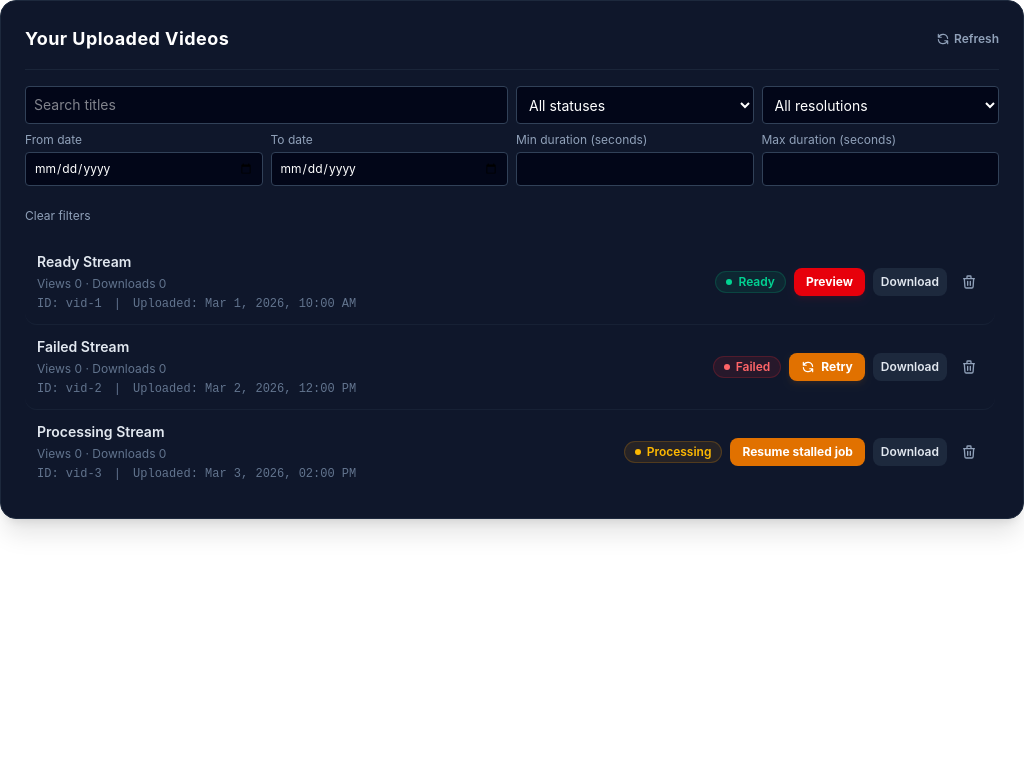
Test case: VideoList Component › handles video deletion after confirmation
The image size is (1024, 768).
Expected: the text "Ready Stream" is shown, [37,253,131,270]
Click the 1st button titled "Delete video". click: (969, 282)
box: [955,268,983,296]
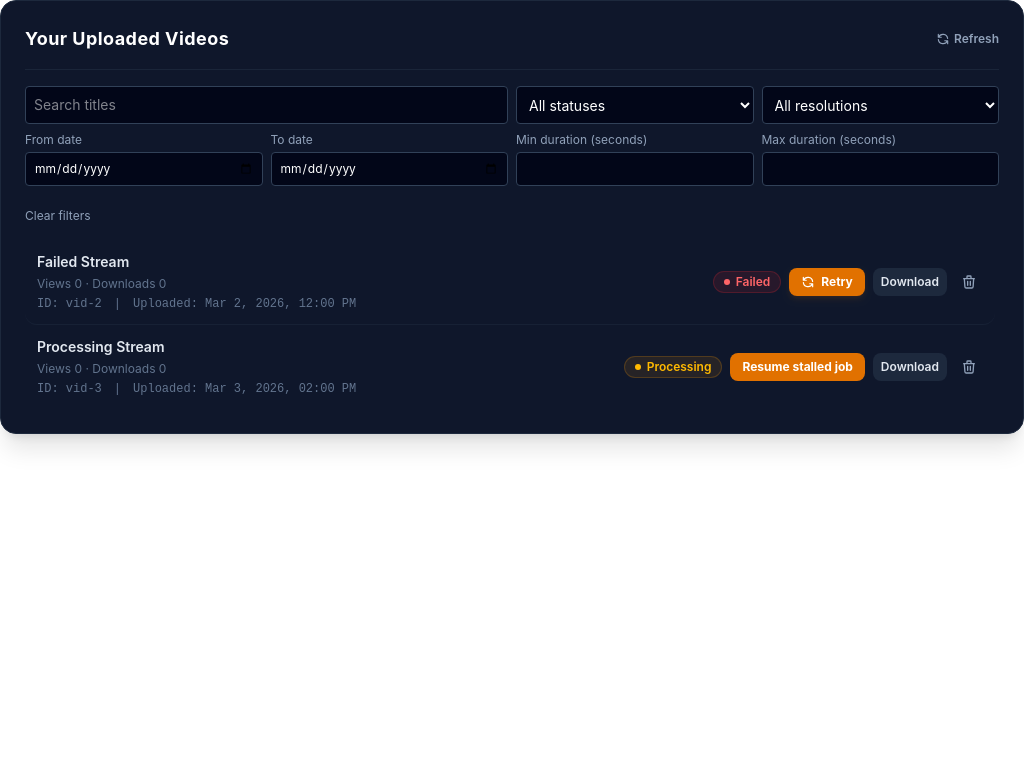
Expected: the text "Ready Stream" is gone
